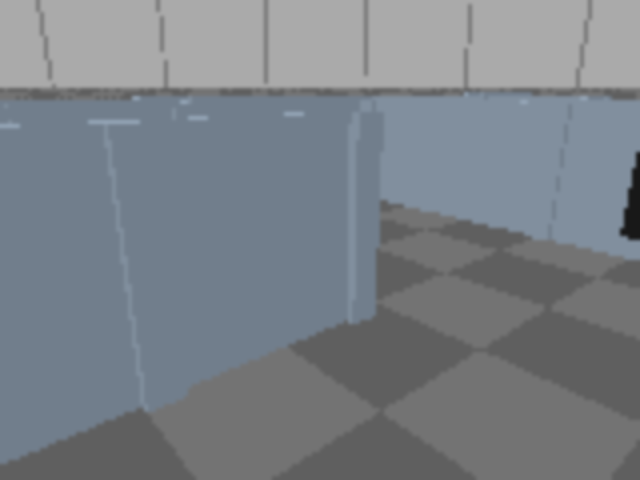traffic_light: (603, 72, 638, 348)
